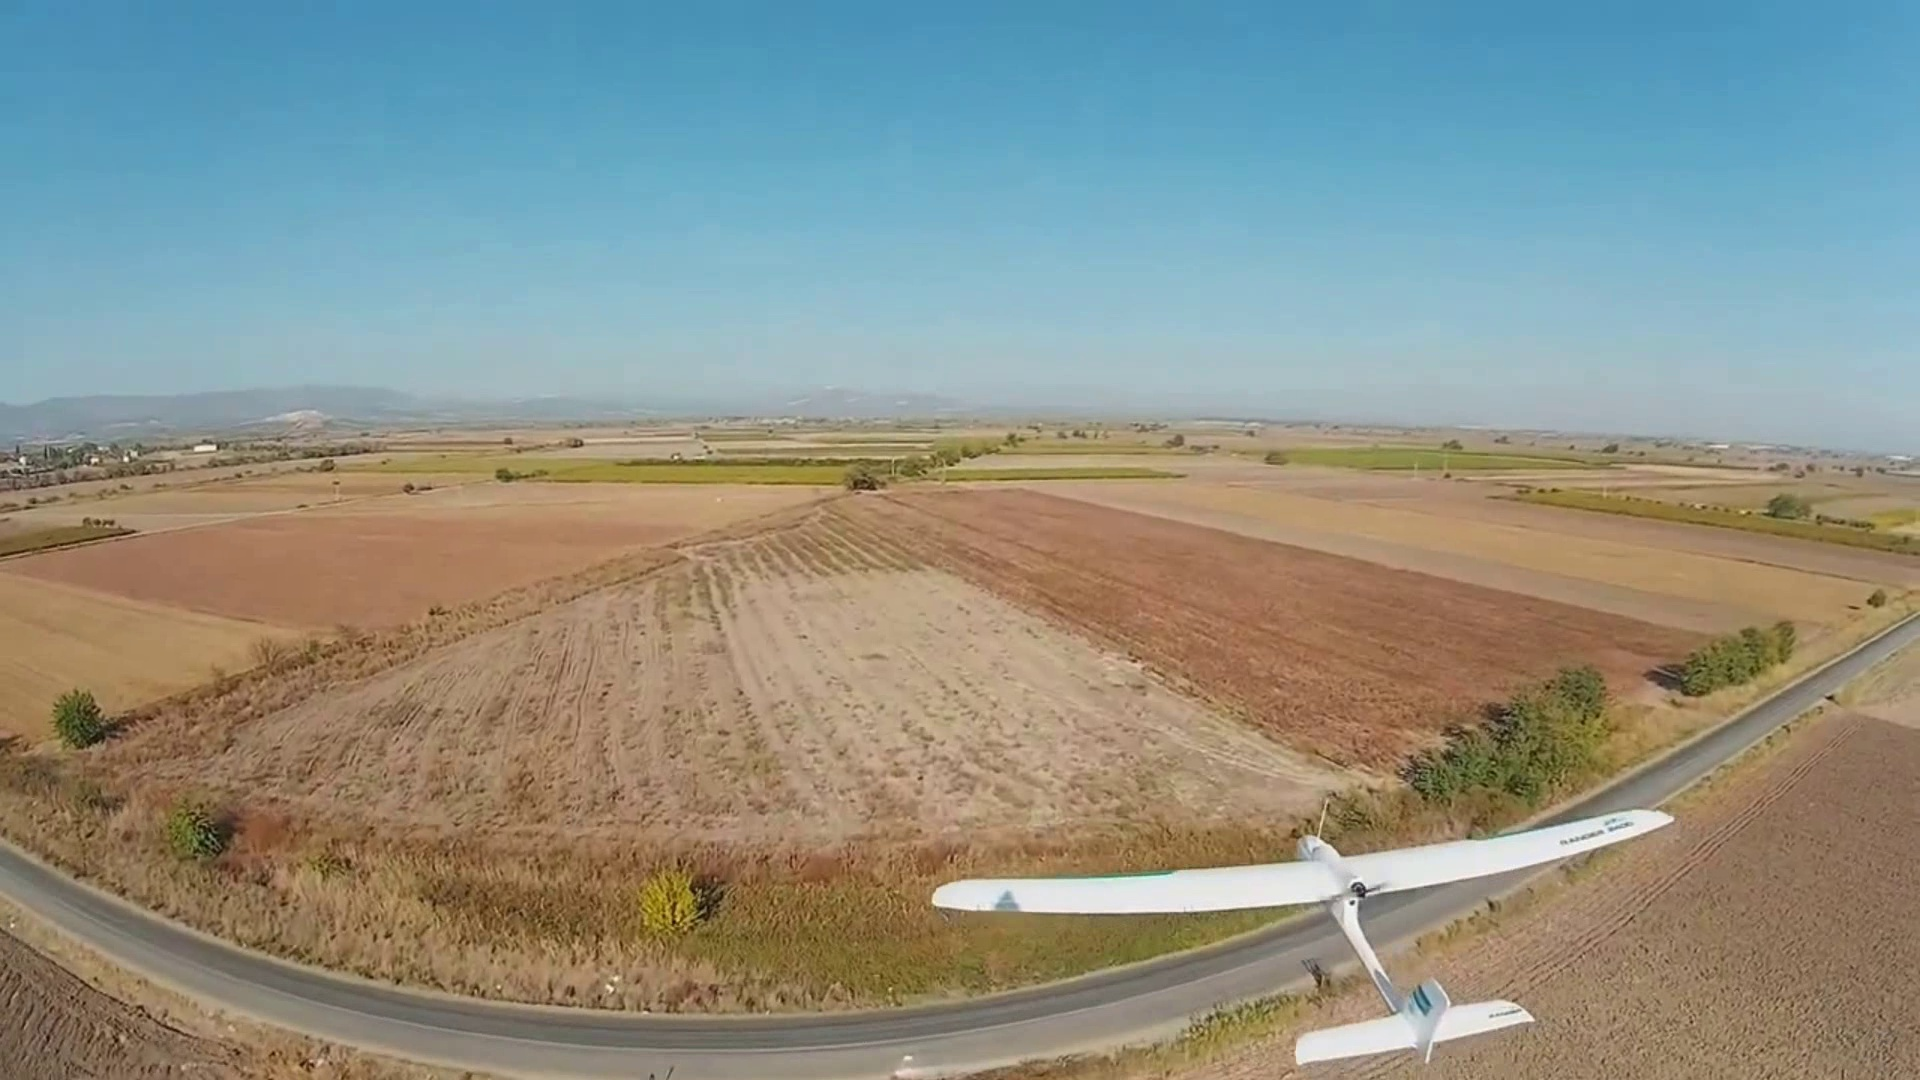airplane: (928, 802, 1676, 1062)
